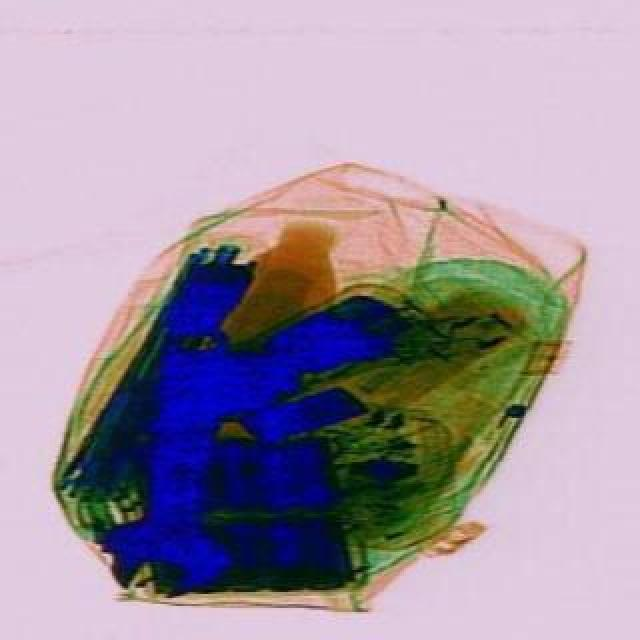scissors: (90, 316, 262, 604)
